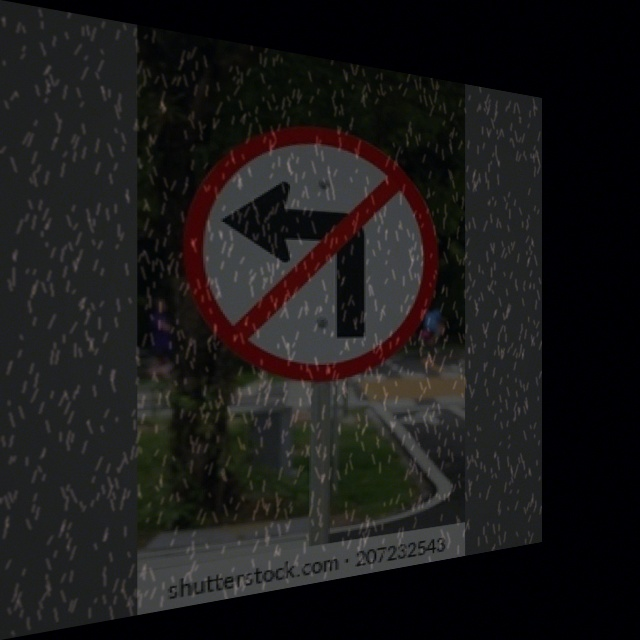Left_Turn_Prohibited: (182, 108, 441, 390)
